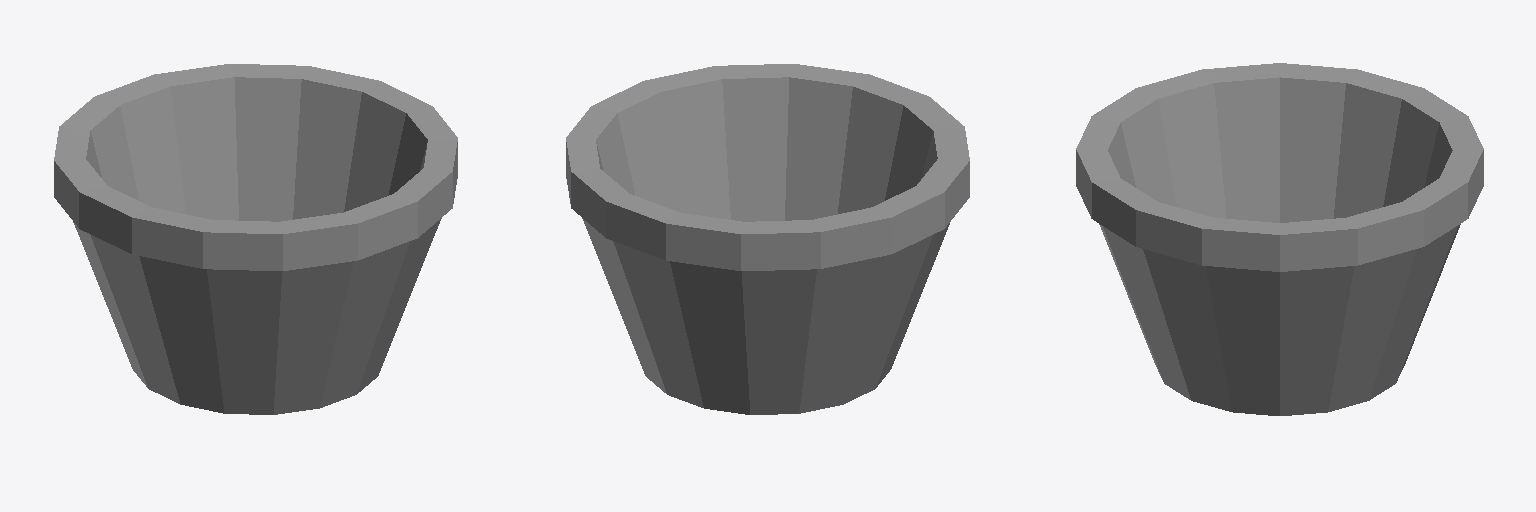
Rendered from flowerpot.obj.
3 renders of one model, left to right at view 1: azimuth 30°, elevation 25°; view 2: azimuth 150°, elevation 25°; view 3: azimuth 270°, elevation 25°, orthographic.
Parts seen in each view (by area): view 1: flowerpot; view 2: flowerpot; view 3: flowerpot.
Boxes of the visible parts, box(x1,y1,x2,y2) form: flowerpot: box(54, 64, 457, 414); flowerpot: box(566, 64, 969, 414); flowerpot: box(1076, 63, 1483, 415).
Size of the model in its own units: 1.04 by 0.602 by 1.04.